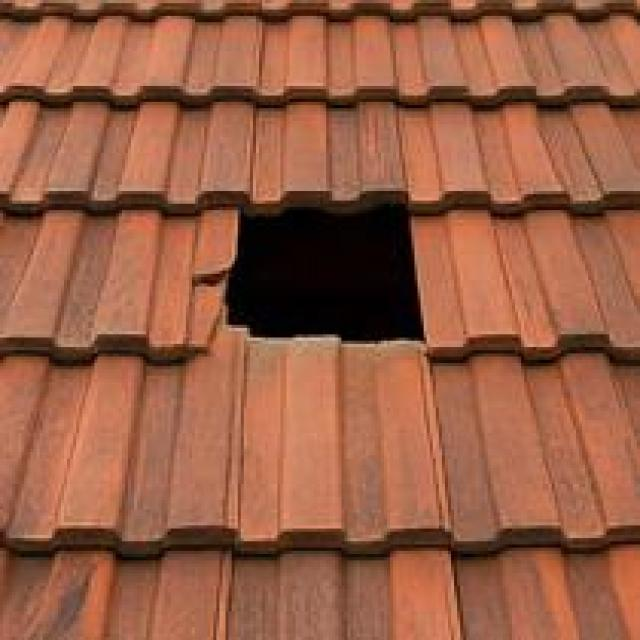trou: (194, 191, 430, 350)
